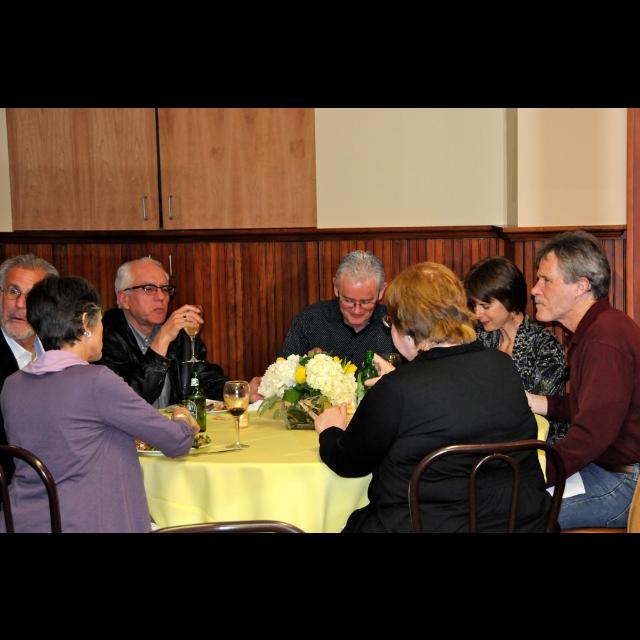Flower: (294, 353, 358, 409), (258, 354, 300, 400)
